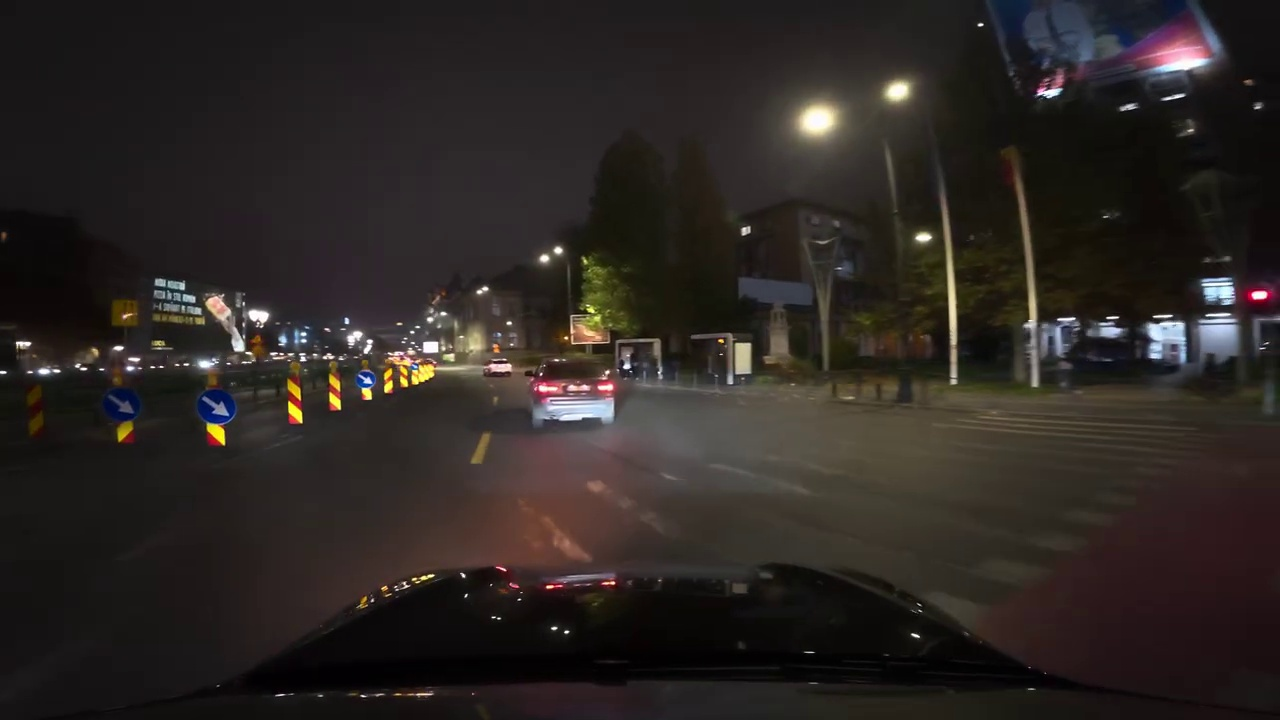acesa: (798, 103, 837, 139), (880, 77, 912, 107), (534, 246, 562, 269)
